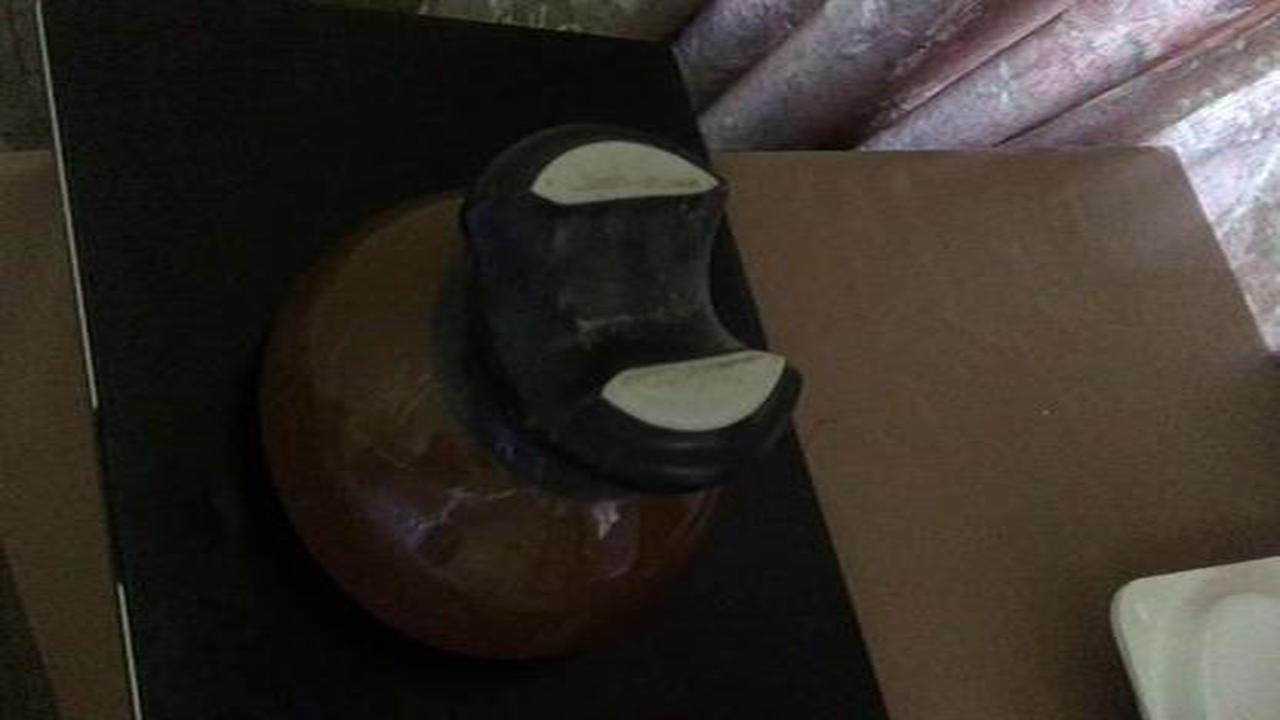insulator_pin: (244, 103, 834, 682)
